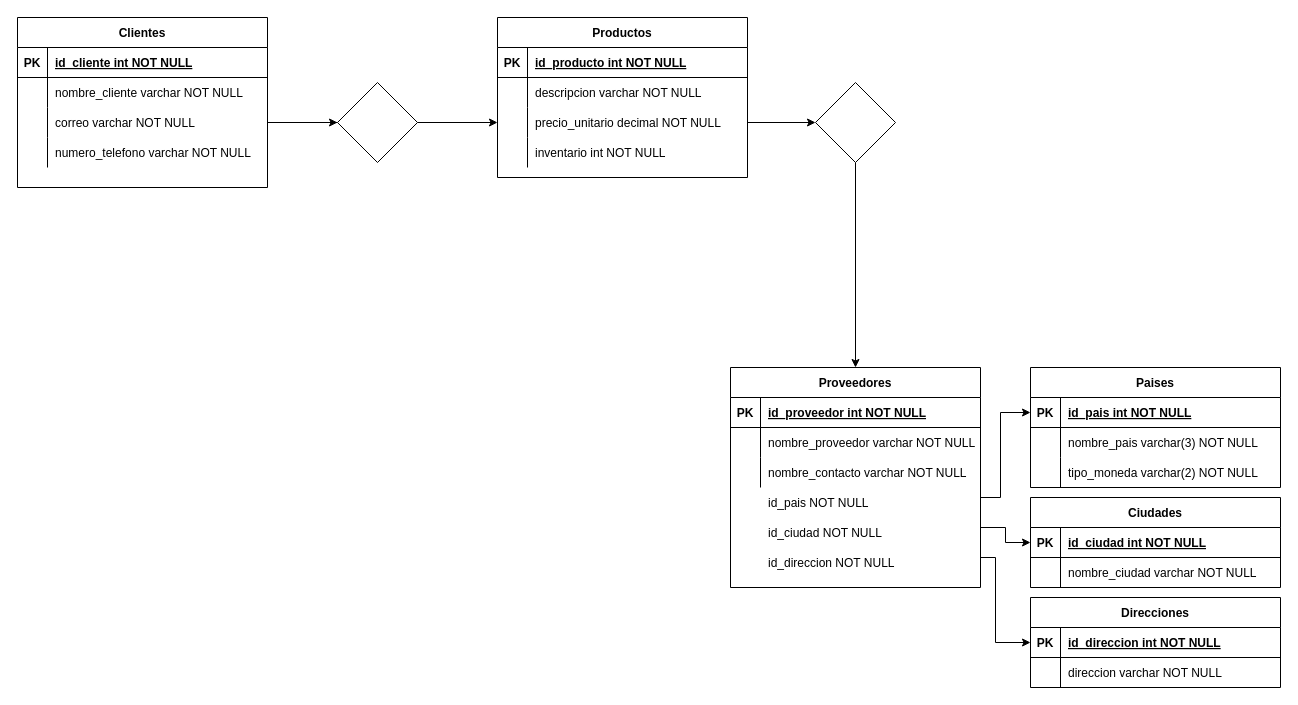
Some shapes in this 1298 by 705 pixel diagram are drawn without their labels. Each missing label, with the centre of its shape:
Compra: pixel 855 122
Venta: pixel 377 122
